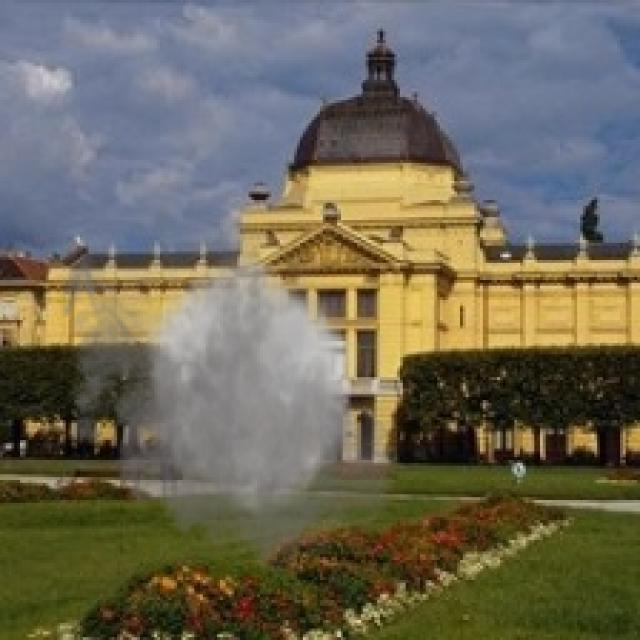smoke: (49, 188, 408, 586)
